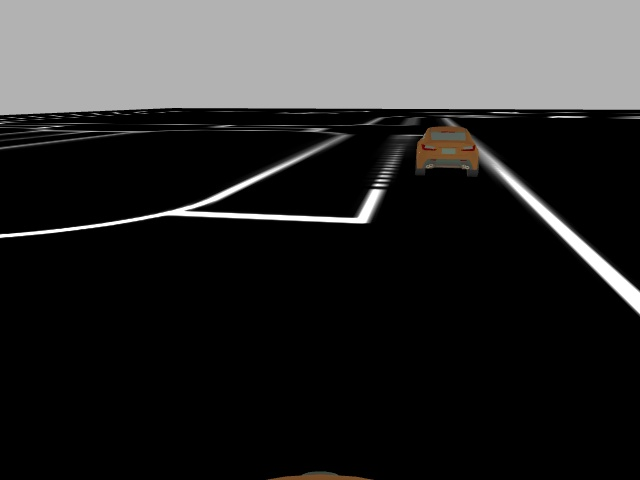obstacle_car: (413, 124, 481, 178)
